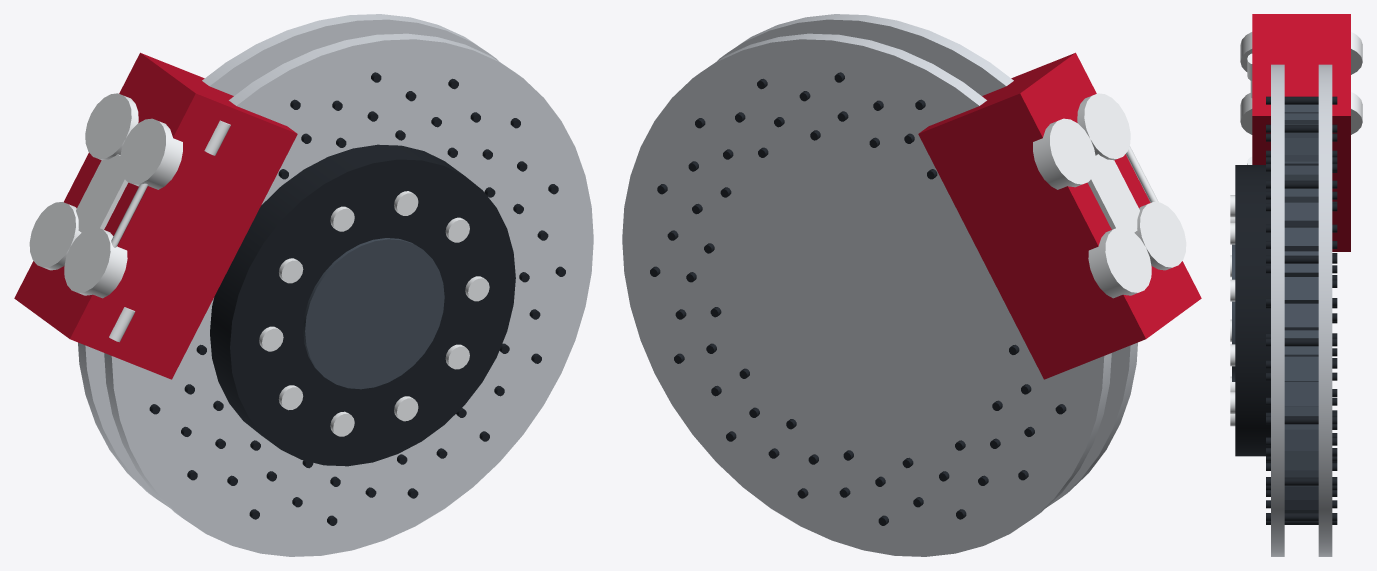
File: ventilated_disc_brake_pro.glb
3 renders of one model, left to right at view 1: azimuth 30°, elevation 25°; view 2: azimuth 150°, elevation 25°; view 3: azimuth 270°, elevation 25°, orthographic. The views are drawn at different scales.
Visible parts, largest first — view 1: VentilatedBrakeDiscPro; view 2: VentilatedBrakeDiscPro; view 3: VentilatedBrakeDiscPro.
Boxes of the visible parts, x1,y1,x2,y2 form: VentilatedBrakeDiscPro: (14, 14, 593, 556); VentilatedBrakeDiscPro: (622, 14, 1201, 556); VentilatedBrakeDiscPro: (1230, 14, 1362, 556).
Size of the model in its own units: 3.22 by 2.91 by 0.78.
